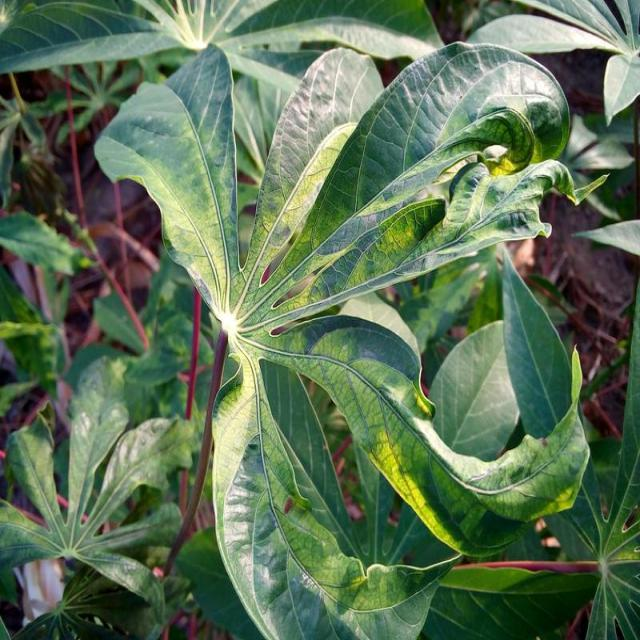cassava leaf: (90, 37, 594, 637)
